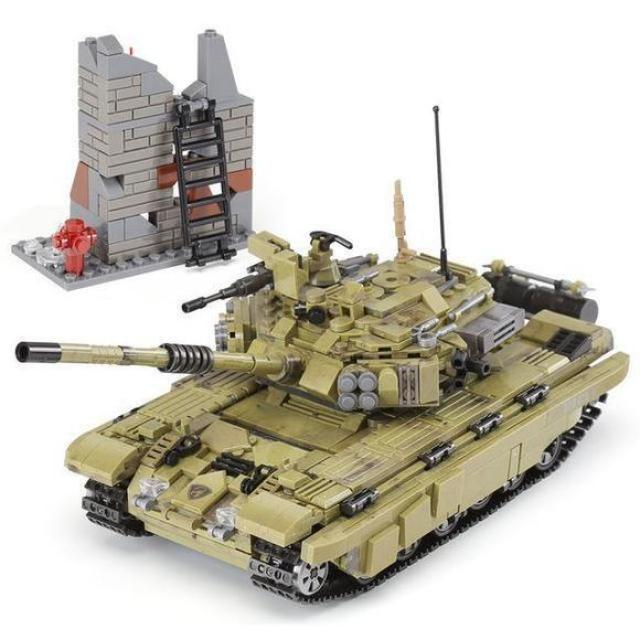Tanks: (18, 144, 572, 618)
